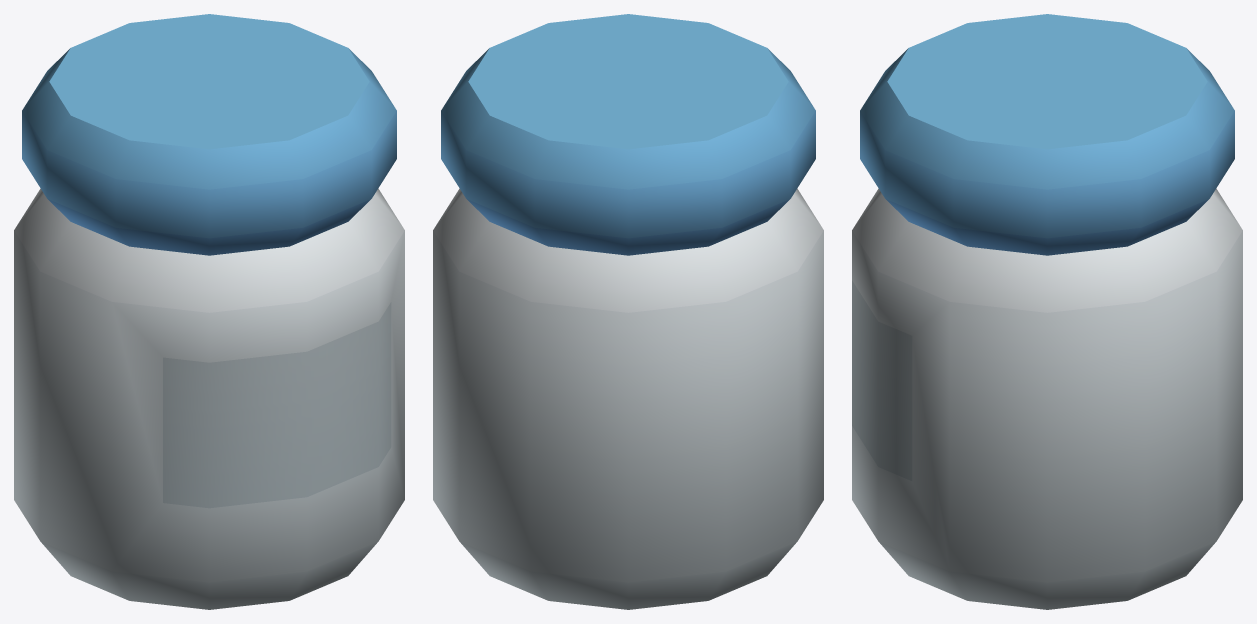
The model's file is jar_A_medium.obj.
3 renders of one model, left to right at view 1: azimuth 30°, elevation 25°; view 2: azimuth 150°, elevation 25°; view 3: azimuth 270°, elevation 25°, orthographic.
Parts seen in each view (by area): view 1: jar_A_medium_Cylinder.259; view 2: jar_A_medium_Cylinder.259; view 3: jar_A_medium_Cylinder.259.
Part boxes in pixels (box(x1,y1,x2,y2)): jar_A_medium_Cylinder.259: box(14, 14, 404, 609); jar_A_medium_Cylinder.259: box(433, 14, 823, 609); jar_A_medium_Cylinder.259: box(852, 14, 1242, 609).
Bounding box in the file's own units: 0.5 × 0.65 × 0.5.
1 material, 1 textured.
